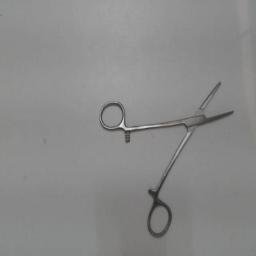Mayo Needle Holder: (96, 74, 244, 240)
